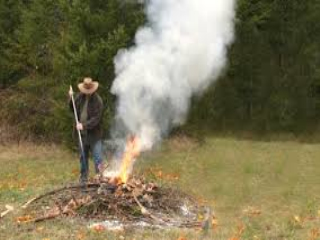fire: (104, 142, 142, 187)
smoke: (109, 2, 237, 158)
